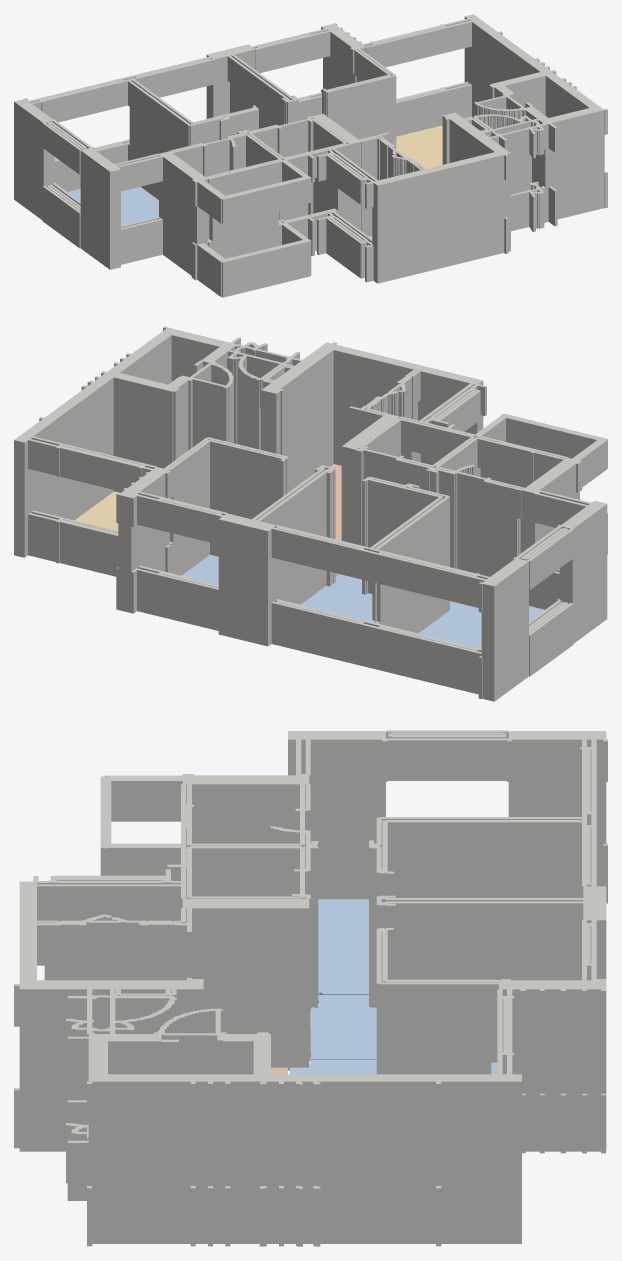
3 renders of one model, top to bottom at view 1: azimuth 30°, elevation 25°; view 2: azimuth 150°, elevation 25°; view 3: azimuth 270°, elevation 25°, orthographic. The views are drawn at different scales.
Parts seen in each view (by area): view 1: walls, room:living:0, room:bedroom:3; view 2: walls, room:bedroom:2, room:bedroom:3, room:living:0, room:bedroom:1, room:kitchen:4; view 3: walls, room:bedroom:3, room:bedroom:2, room:bedroom:1.
Boxes of the visible parts, bbox=[...] form: walls: bbox=[14, 14, 607, 297]; room:living:0: bbox=[396, 125, 442, 168]; room:bedroom:3: bbox=[67, 186, 158, 225]; walls: bbox=[14, 326, 607, 701]; room:bedroom:2: bbox=[300, 574, 372, 621]; room:bedroom:3: bbox=[418, 601, 544, 648]; room:living:0: bbox=[75, 491, 120, 530]; room:bedroom:1: bbox=[182, 554, 338, 584]; room:kitchen:4: bbox=[330, 464, 341, 540]; walls: bbox=[14, 730, 607, 1246]; room:bedroom:3: bbox=[318, 899, 368, 994]; room:bedroom:2: bbox=[310, 995, 376, 1059]; room:bedroom:1: bbox=[290, 1059, 497, 1074].
Size of the model in its own units: 13.1 by 2.8 by 9.28.
